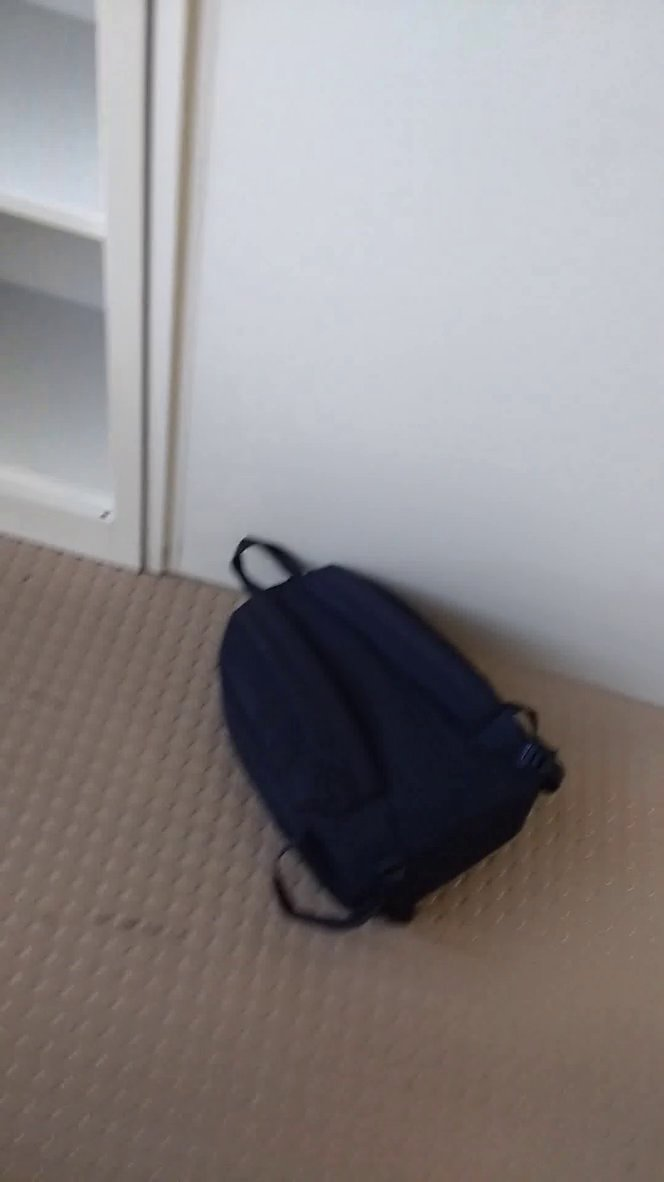bag: (198, 523, 573, 946)
